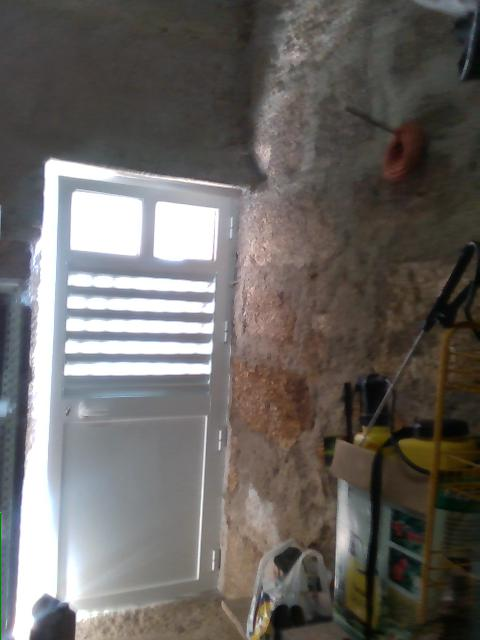door: (42, 162, 241, 599)
